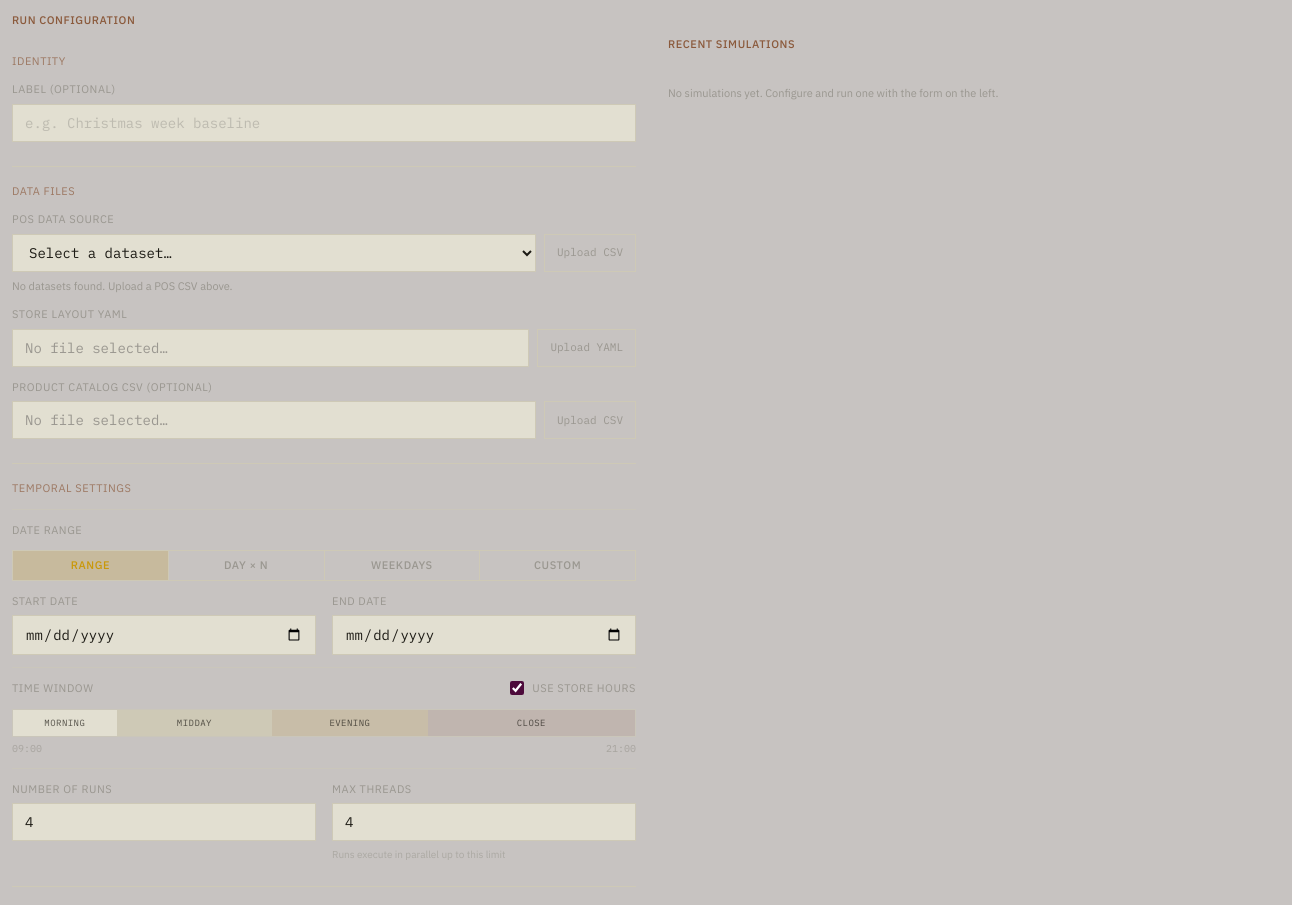
it: RunTab.vue › switches date presets cleanly
This screenshot has width=1292, height=905.
Step 1. Click the button "Day × N" → [247, 565], box [169,551,325,580]
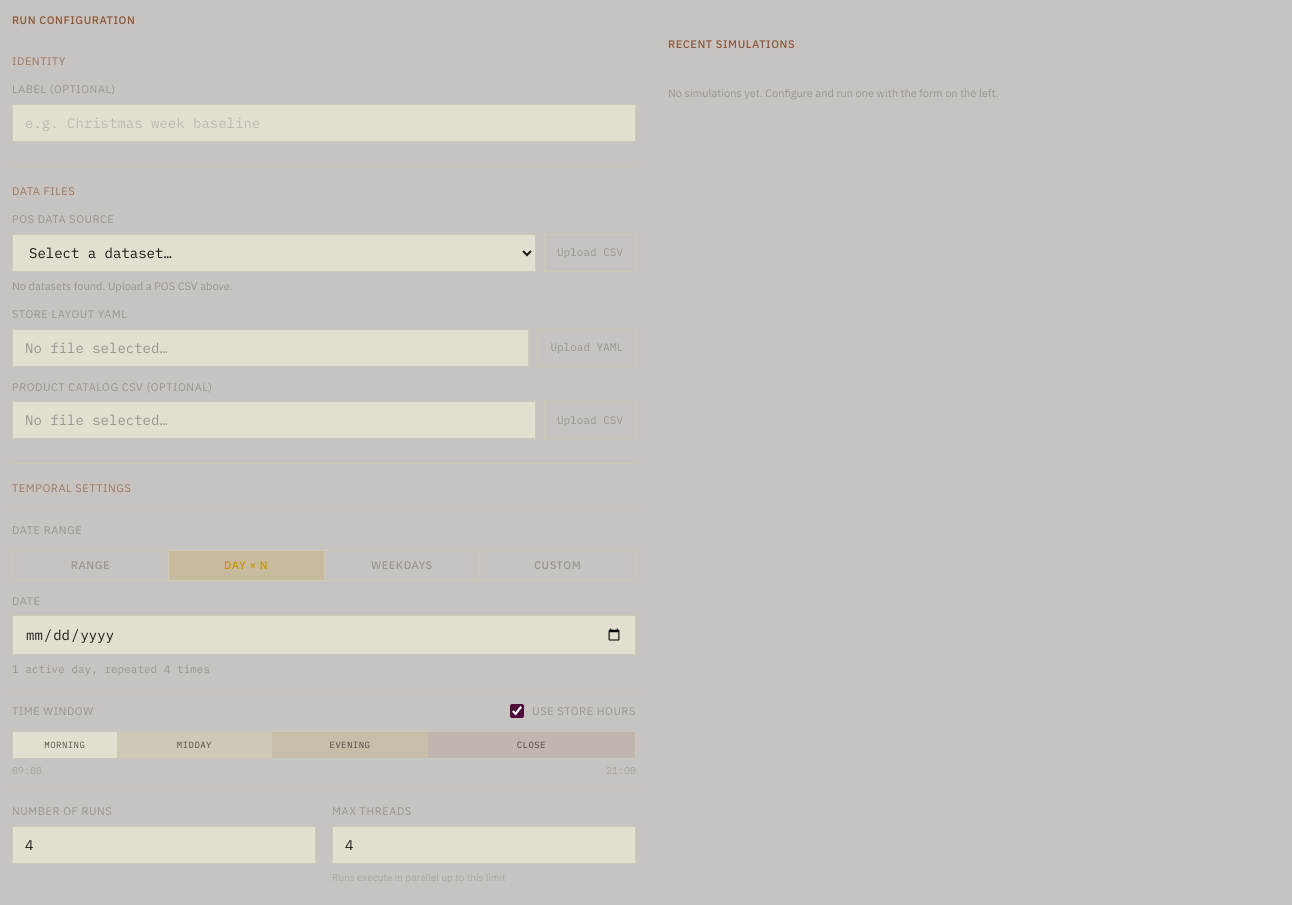
Expected: the text "1 active day" is shown, [12,662,210,676]
